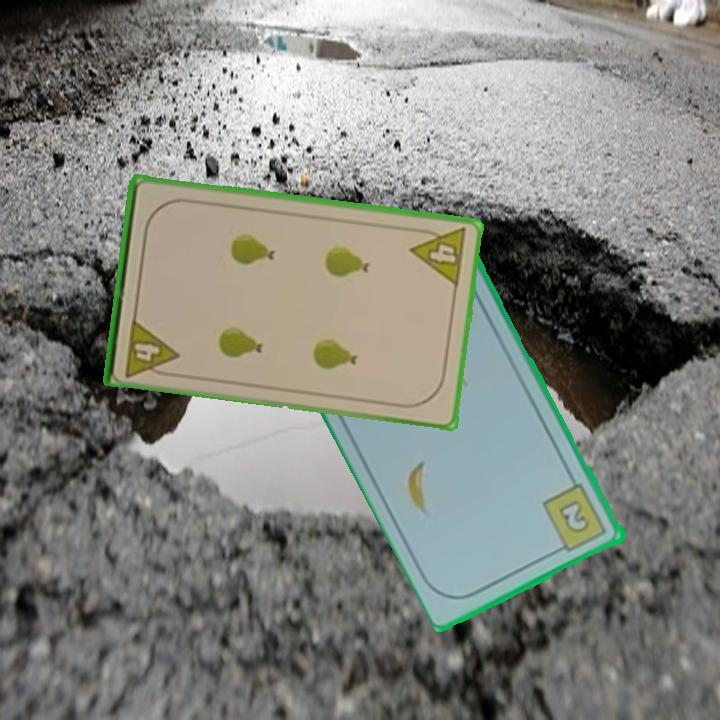2b: (539, 480, 611, 556)
4p: (407, 223, 470, 290), (121, 315, 181, 380)
